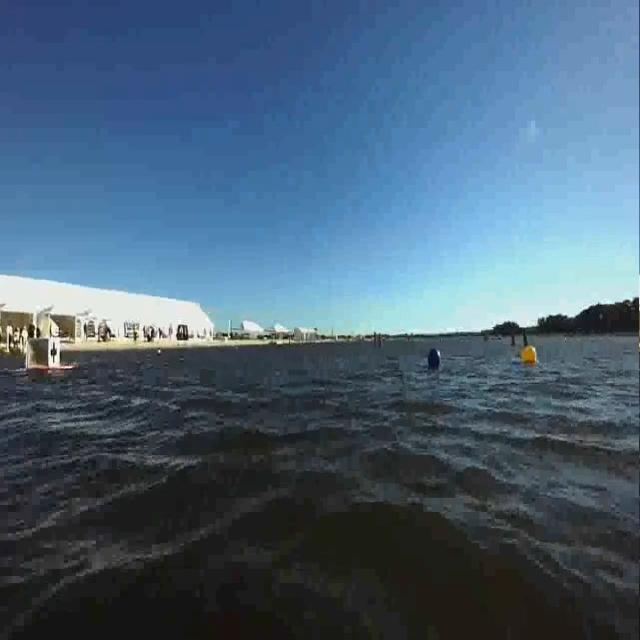blue-buoy: (426, 346, 441, 370)
yellow-buoy: (521, 343, 538, 365)
